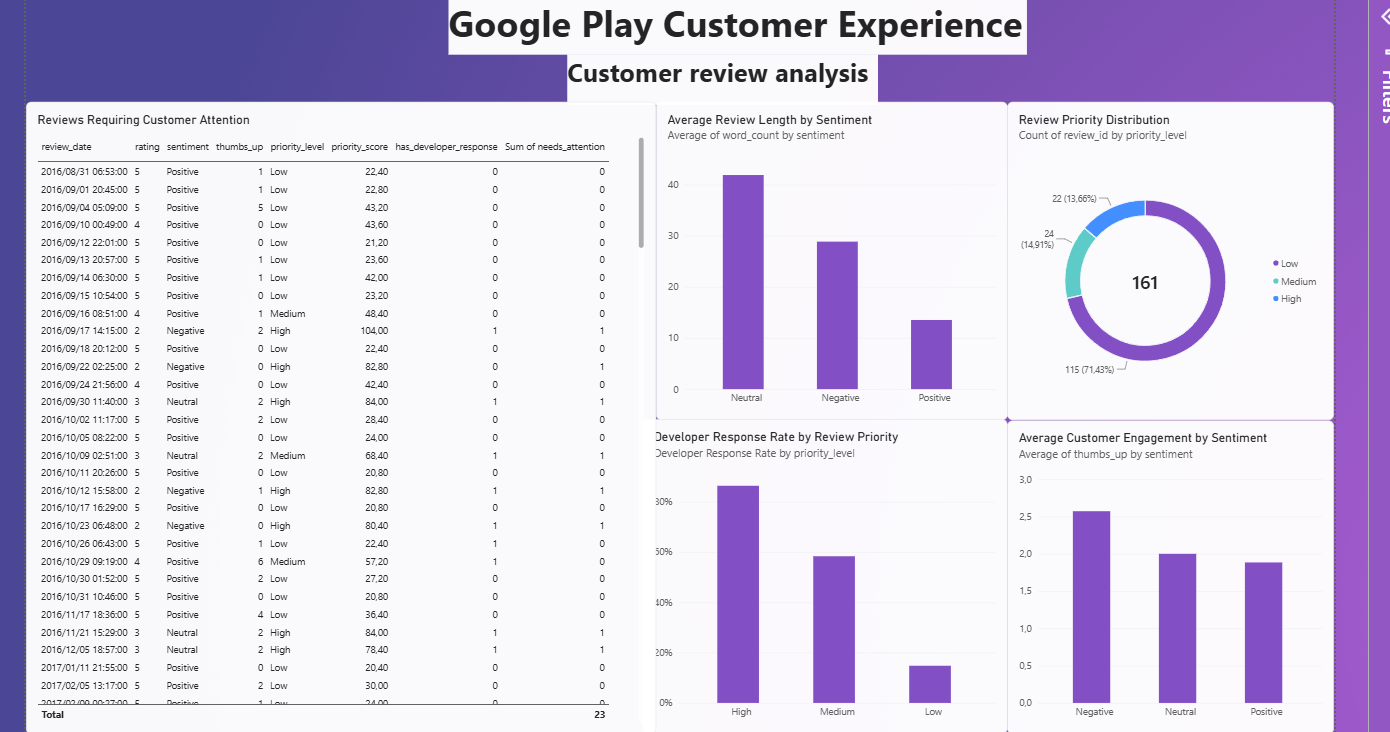

The dashboard page shown, as its layout file describes it:
{"tool":"powerbi","page":{"name":"Customer Review Analysis","canvas":[1920,1080],"ordinal":1},"visuals":[{"type":"clusteredColumnChart","title":"Average Review Length by Sentiment","fields":{"Category":["google_play_reviews_powerbi.sentiment"],"Y":["Avg(google_play_reviews_powerbi.word_count)"]},"box":[924.7,152,515.8,466.9],"z":0},{"type":"textbox","box":[620.7,0,848.7,83.2],"z":1},{"type":"textbox","box":[794.4,83.2,456,74.2],"z":2},{"type":"clusteredColumnChart","title":"Average Customer Engagement by Sentiment","fields":{"Category":["google_play_reviews_powerbi.sentiment"],"Y":["Avg(google_play_reviews_powerbi.thumbs_up)"]},"box":[1440.5,620.7,479.6,459.7],"z":3},{"type":"donutChart","title":"Review Priority Distribution","fields":{"Category":["google_play_reviews_powerbi.priority_level"],"Y":["CountNonNull(google_play_reviews_powerbi.review_id)"]},"box":[1440.5,152,479.6,466.9],"z":4},{"type":"clusteredColumnChart","title":"Developer Response Rate by Review Priority","fields":{"Category":["google_play_reviews_powerbi.priority_level"],"Y":["google_play_reviews_powerbi.Developer Response Rate"]},"box":[904.8,618.9,535.7,461.5],"z":5},{"type":"tableEx","title":"Reviews Requiring Customer Attention","fields":{"Values":["google_play_reviews_powerbi.review_date","google_play_reviews_powerbi.rating","google_play_reviews_powerbi.sentiment","google_play_reviews_powerbi.thumbs_up","google_play_reviews_powerbi.priority_level","google_play_reviews_powerbi.priority_score","google_play_reviews_powerbi.has_developer_response","Sum(google_play_reviews_powerbi.needs_attention)"]},"box":[0,152,924.7,928.4],"z":6}]}

Visuals, with their boxes on the page's 1920x1080 design canvas (x1, y1, x2, y2). These are canvas units, not pixel positions in the 1390x732 screenshot, which may show the page scaled, cropped or inside an application window:
"Average Review Length by Sentiment" clusteredColumnChart: <bbox>925, 152, 1440, 619</bbox>
textbox: <bbox>621, 0, 1469, 83</bbox>
textbox: <bbox>794, 83, 1250, 157</bbox>
"Average Customer Engagement by Sentiment" clusteredColumnChart: <bbox>1440, 621, 1920, 1080</bbox>
"Review Priority Distribution" donutChart: <bbox>1440, 152, 1920, 619</bbox>
"Developer Response Rate by Review Priority" clusteredColumnChart: <bbox>905, 619, 1440, 1080</bbox>
"Reviews Requiring Customer Attention" tableEx: <bbox>0, 152, 925, 1080</bbox>
